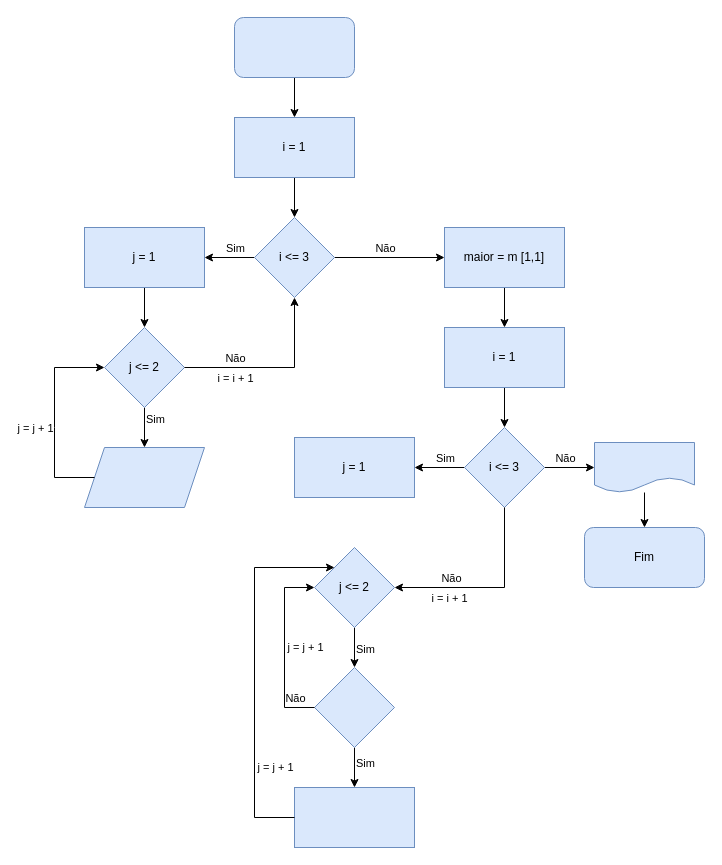
This 722x865 diagram has some shape labels left out. Here are the shapes that lost their labels. From the top down, the centre of each, then its label:
At (294,47): "Início".
At (144,477): "m[i,j]".
At (644,467): "maior".
At (354,707): "m[i,j] > maior".
At (354,817): "maior = m[i,j]".
